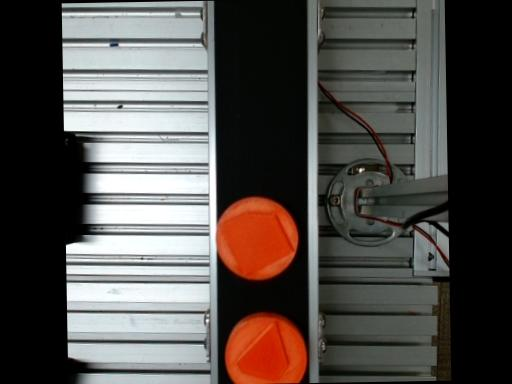Not_Square: (217, 211, 293, 278), (233, 322, 286, 383)
Orange_Waper: (215, 197, 297, 280), (224, 313, 305, 384)
